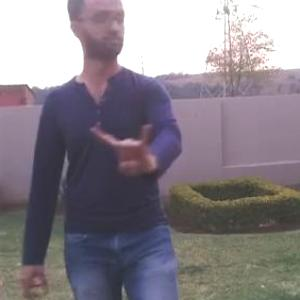takeoff-hand: (88, 111, 160, 187)
